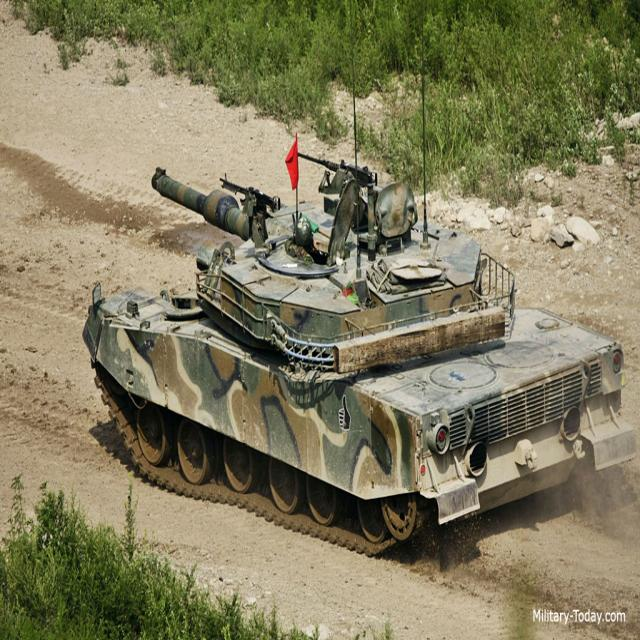Tank: (110, 123, 609, 566)
